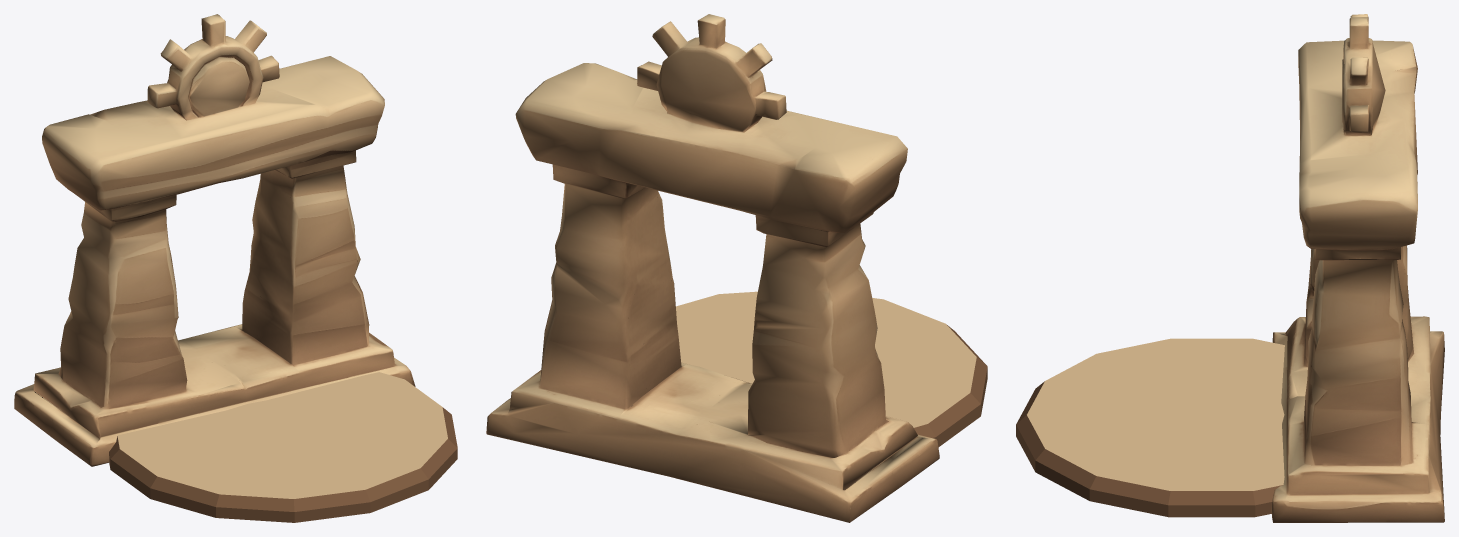
The picture shows the model from 3 angles, left to right: view 1: azimuth 30°, elevation 25°; view 2: azimuth 150°, elevation 25°; view 3: azimuth 270°, elevation 25°; orthographic projection. The views are drawn at different scales.
Parts seen in each view (by area): view 1: desert-landmark; view 2: desert-landmark; view 3: desert-landmark.
Part boxes in pixels (x1,y1,x2,y2): desert-landmark: (14,14,457,522); desert-landmark: (486,14,987,522); desert-landmark: (1016,14,1444,522).
Size of the model in its own units: 2.41 by 2.7 by 2.52.
1 material, 1 textured.
